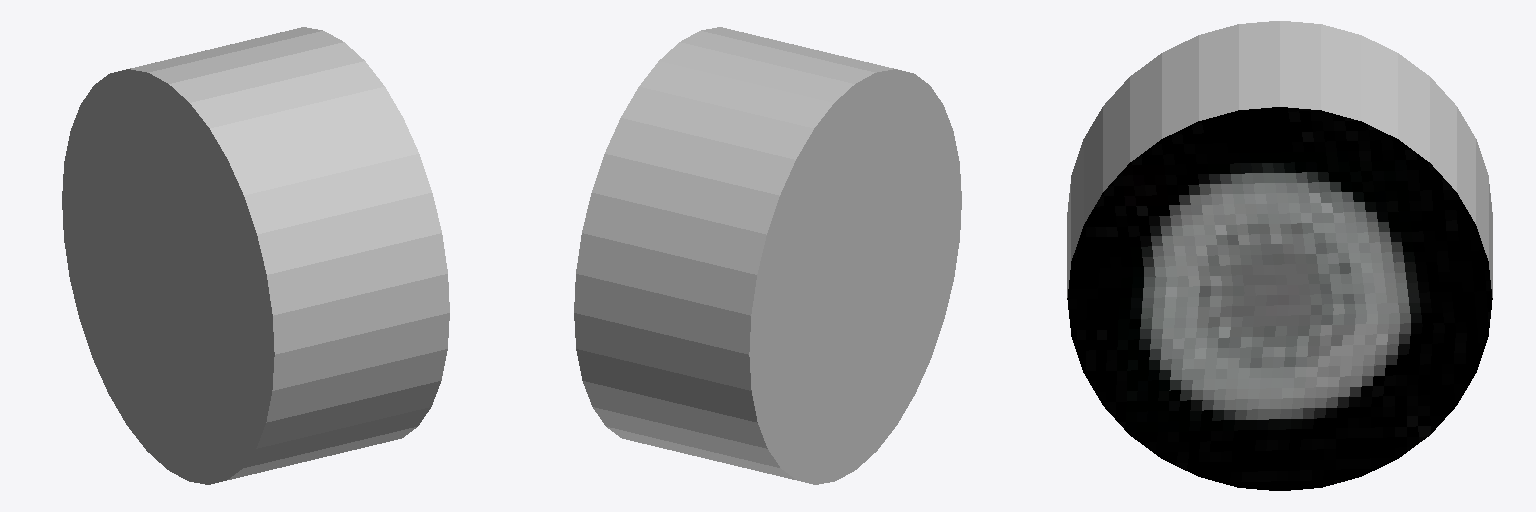
The picture shows the model from 3 angles: view 1: azimuth 30°, elevation 25°; view 2: azimuth 150°, elevation 25°; view 3: azimuth 270°, elevation 25°; orthographic projection.
Visible parts, largest first — view 1: rueda21; view 2: rueda21; view 3: rueda21.
Boxes of the visible parts, x1,y1,x2,y2 form: rueda21: [62, 27, 449, 484]; rueda21: [574, 27, 961, 484]; rueda21: [1067, 21, 1492, 490].
Bounding box in the file's own units: 1.42 × 2.97 × 2.96.
Materials: 2 (1 with a texture image).